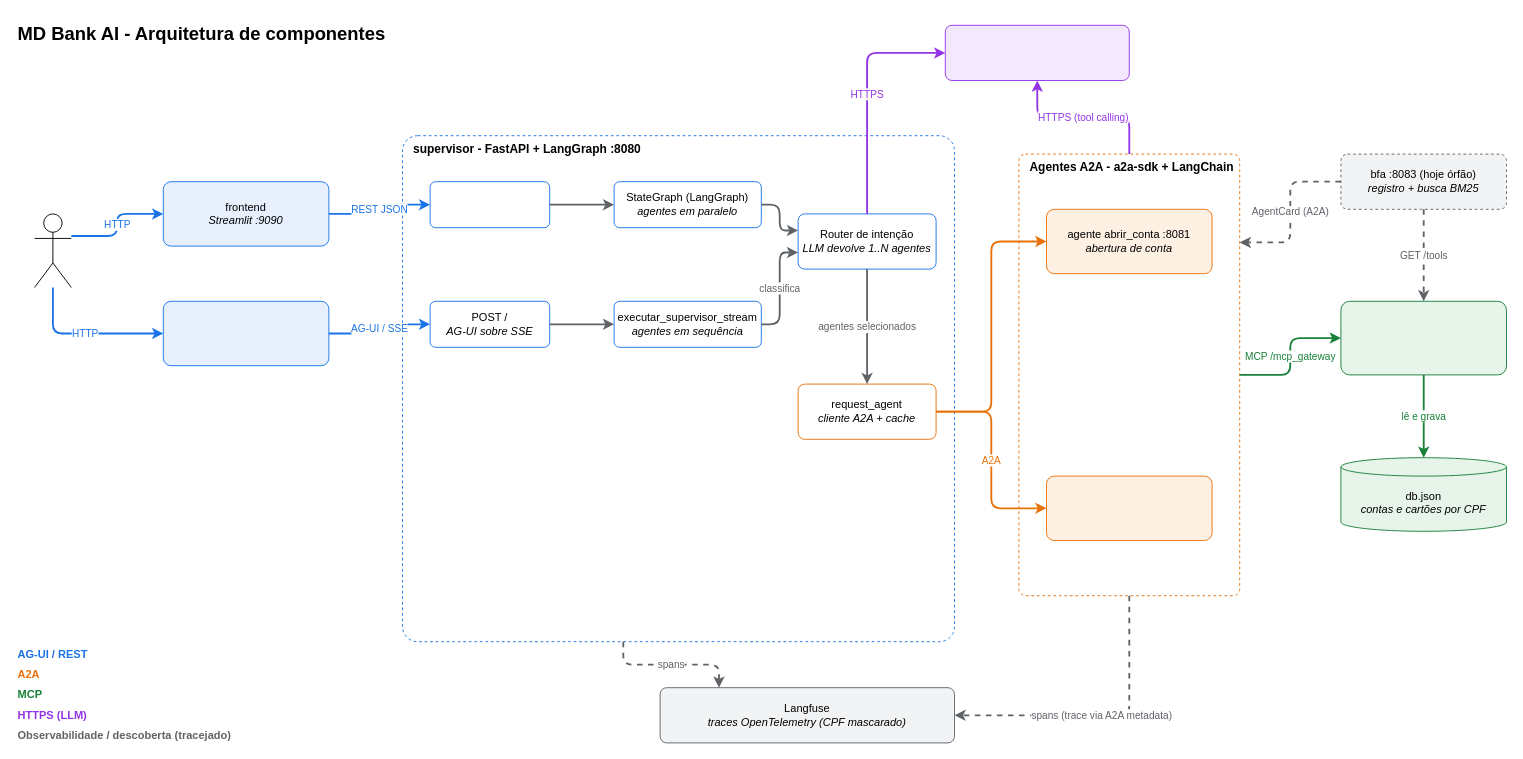
Image size: 1523x759. Some labels were removed from this diagram. The centre of each missing label's shape, as x and y in pixels:
agente cartao_credito :8082 cartões de crédito: (x=1129, y=507)
Anthropic API claude-haiku-5-5: (x=1036, y=52)
Cliente: (x=52, y=250)
frontend2 React + Tailwind :3000: (x=245, y=333)
POST /chat resposta síncrona: (x=489, y=204)
recursos :8084 FastMCP: resources, tools, prompts: (x=1423, y=337)
